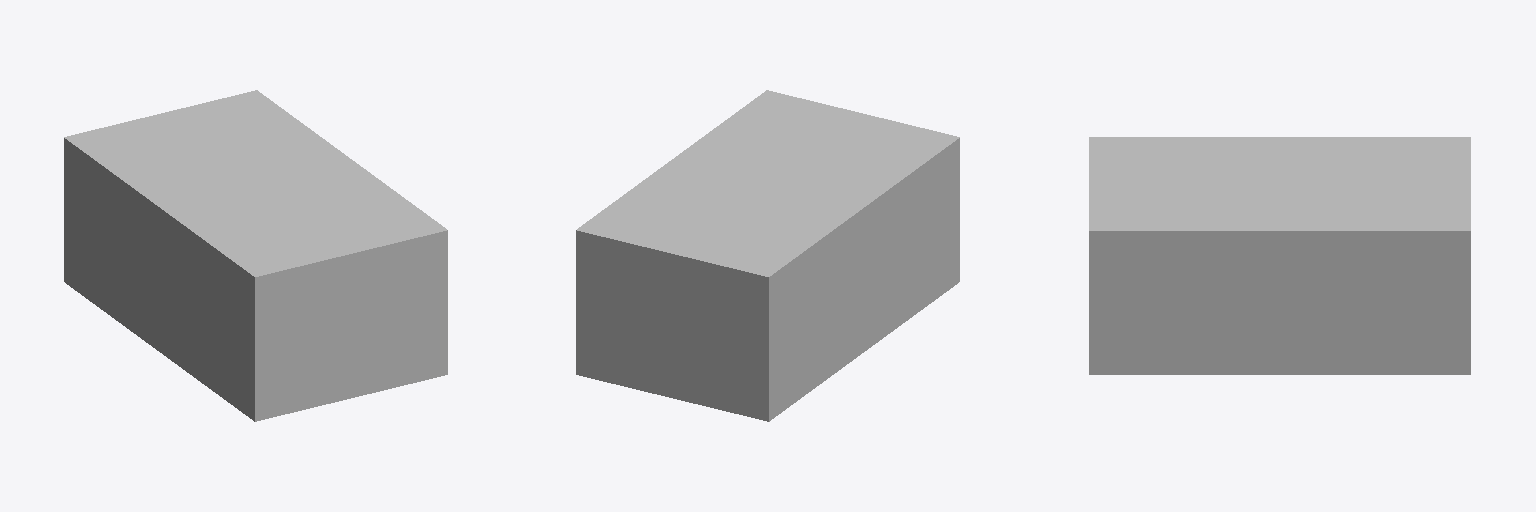
The model's file is caja carton 3.obj.
3 views of the same model, side by side, from view 1: azimuth 30°, elevation 25°; view 2: azimuth 150°, elevation 25°; view 3: azimuth 270°, elevation 25° (orthographic).
Parts seen in each view (by area): view 1: object 1; view 2: object 1; view 3: object 1.
Boxes of the visible parts, <box> form: object 1: <box>64,90,447,421</box>; object 1: <box>576,90,959,421</box>; object 1: <box>1089,137,1470,374</box>.
Bounding box in the file's own units: 1.4 × 1 × 2.4.